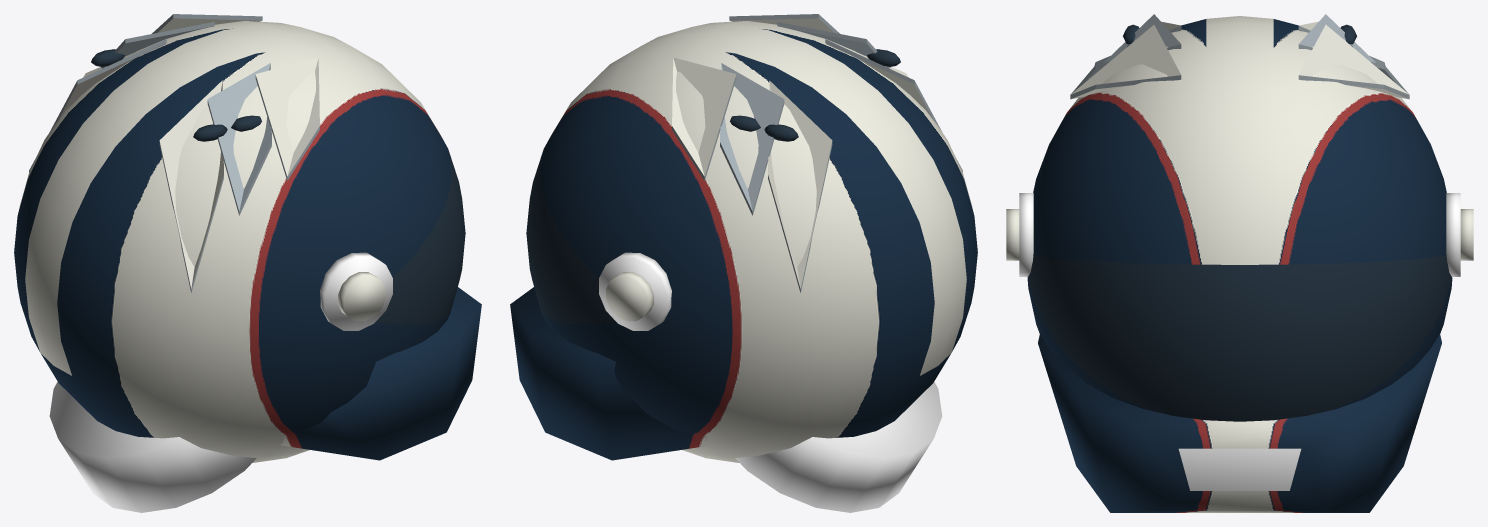
File: Helmet_18_SR_濃藍・逆舷.glb
The picture shows the model from 3 angles, left to right: view 1: azimuth 30°, elevation 25°; view 2: azimuth 150°, elevation 25°; view 3: azimuth 270°, elevation 25°; orthographic projection. The views are drawn at different scales.
Visible parts, largest first — view 1: Helmet_18_SR, Visor; view 2: Helmet_18_SR, Visor; view 3: Helmet_18_SR, Visor.
Boxes of the visible parts, x1=… form: Helmet_18_SR: x1=14, y1=14, x2=481, y2=512; Visor: x1=91, y1=49, x2=465, y2=324; Helmet_18_SR: x1=510, y1=14, x2=977, y2=512; Visor: x1=526, y1=49, x2=900, y2=324; Helmet_18_SR: x1=1006, y1=14, x2=1473, y2=512; Visor: x1=1028, y1=24, x2=1451, y2=421.
Size of the model in its own units: 0.301 by 0.306 by 0.289.
Materials: 4 (4 with a texture image).
